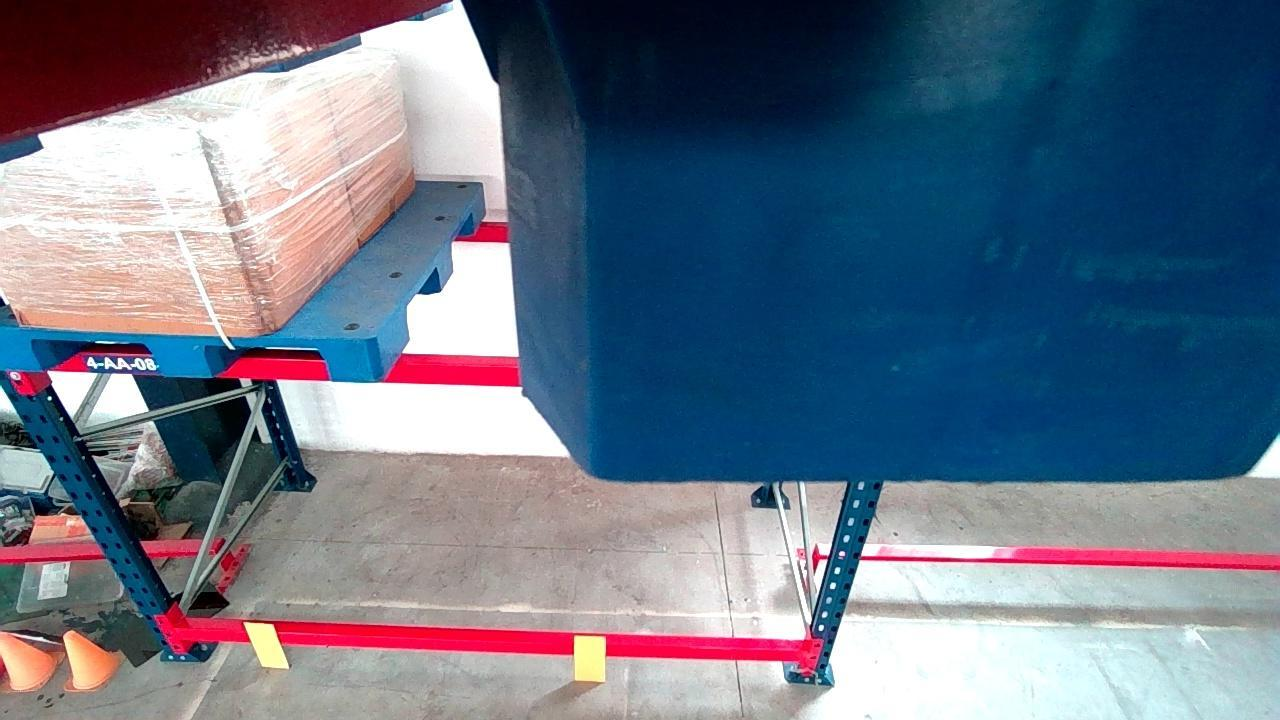h_rack: (176, 628, 807, 662), (58, 354, 517, 387)
orange_strip: (245, 623, 287, 666), (575, 637, 603, 681)
small_pallet: (2, 329, 376, 381)
